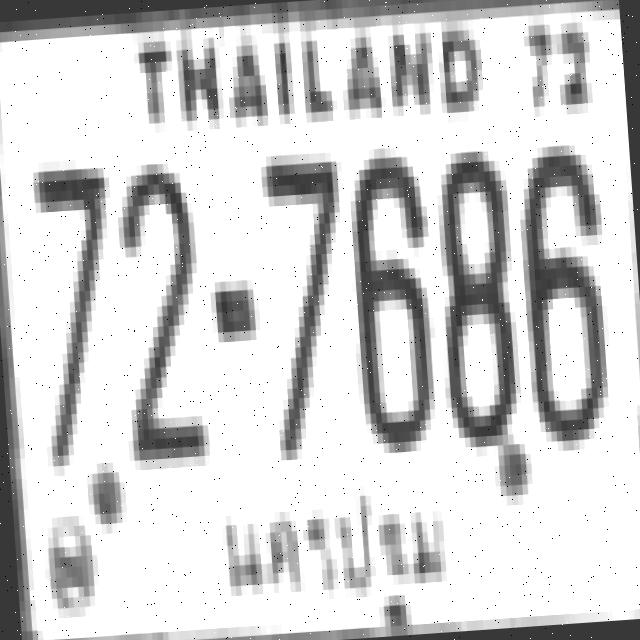2: (108, 151, 204, 461)
6: (508, 133, 612, 443), (341, 145, 437, 444)
7: (27, 156, 124, 466), (254, 146, 350, 456)
8: (427, 140, 519, 449)
NakhonPathom: (216, 475, 457, 640)
